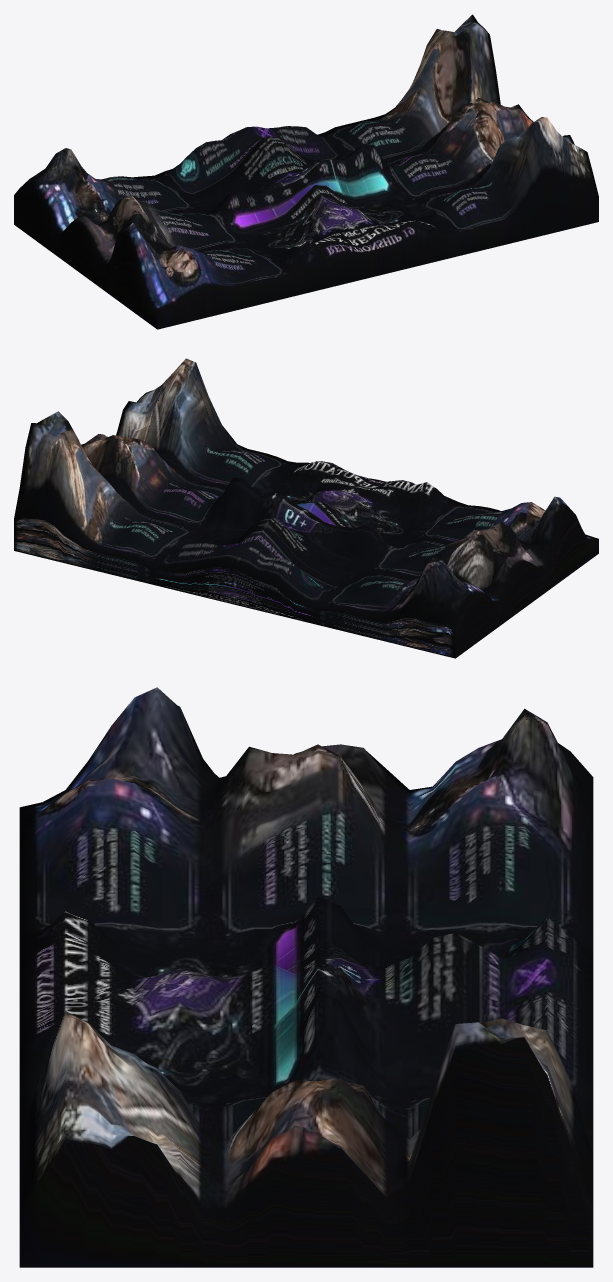
File: RELATIONSHIP_19_Family_Reputation.glb
3 renders of one model, top to bottom at view 1: azimuth 30°, elevation 25°; view 2: azimuth 150°, elevation 25°; view 3: azimuth 270°, elevation 25°, orthographic. The views are drawn at different scales.
Visible parts, largest first — view 1: RELATIONSHIP_19_Family_Reputation; view 2: RELATIONSHIP_19_Family_Reputation; view 3: RELATIONSHIP_19_Family_Reputation.
Boxes of the visible parts, x1,y1,x2,y2 form: RELATIONSHIP_19_Family_Reputation: [14, 14, 598, 329]; RELATIONSHIP_19_Family_Reputation: [14, 358, 598, 658]; RELATIONSHIP_19_Family_Reputation: [19, 687, 593, 1267].
Bounding box in the file's own units: 2 × 0.51 × 1.13.
1 material, 1 textured.
